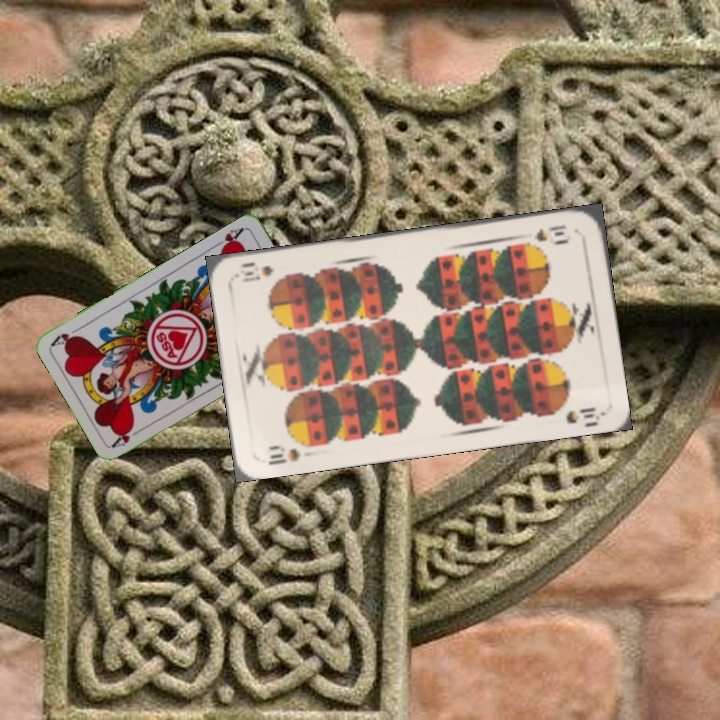HA: (210, 223, 247, 255), (108, 424, 146, 450)
S10: (264, 441, 303, 468), (531, 221, 573, 244)
